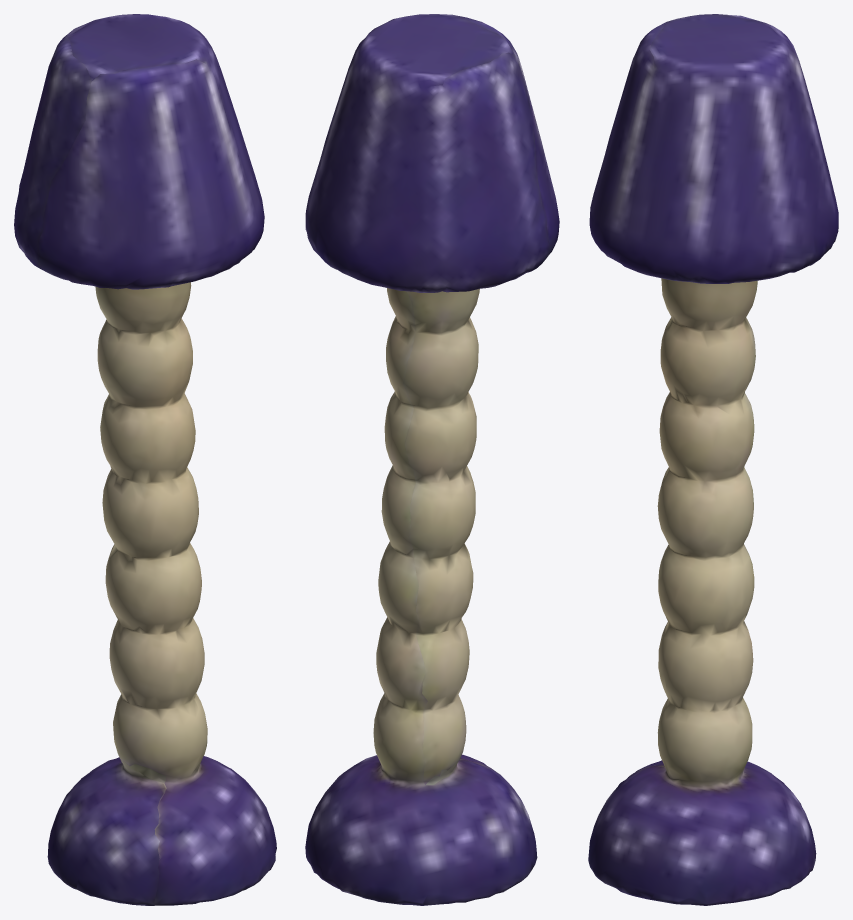
Rendered from 3D_Dollhouse_Lamp-high.glb.
3 renders of one model, left to right at view 1: azimuth 30°, elevation 25°; view 2: azimuth 150°, elevation 25°; view 3: azimuth 270°, elevation 25°, orthographic.
Visible parts, largest first — view 1: 3D_Dollhouse_Lamp; view 2: 3D_Dollhouse_Lamp; view 3: 3D_Dollhouse_Lamp.
Boxes of the visible parts, x1=… form: 3D_Dollhouse_Lamp: x1=14, y1=14, x2=276, y2=905; 3D_Dollhouse_Lamp: x1=305, y1=14, x2=559, y2=905; 3D_Dollhouse_Lamp: x1=588, y1=14, x2=838, y2=905.
Bounding box in the file's own units: 0.048 × 0.1668 × 0.0465.
1 material, 1 textured.
